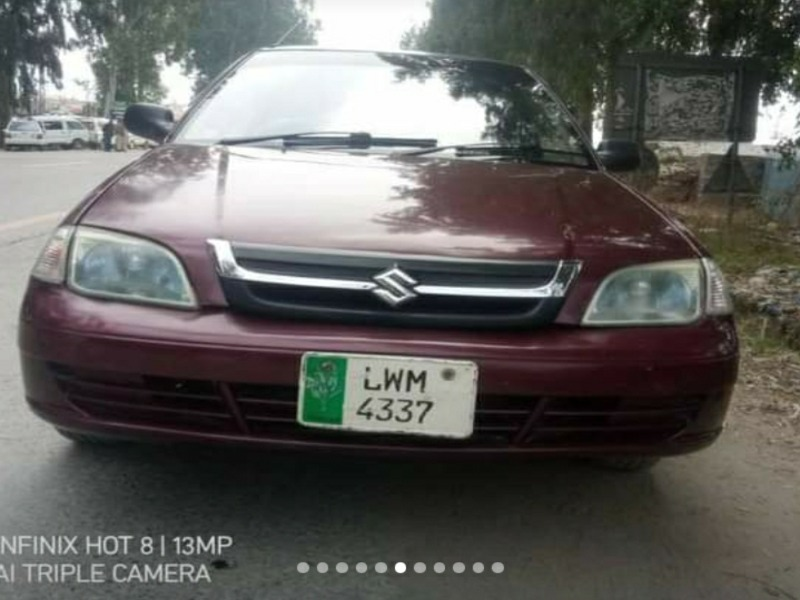License Plate: (291, 351, 481, 443)
